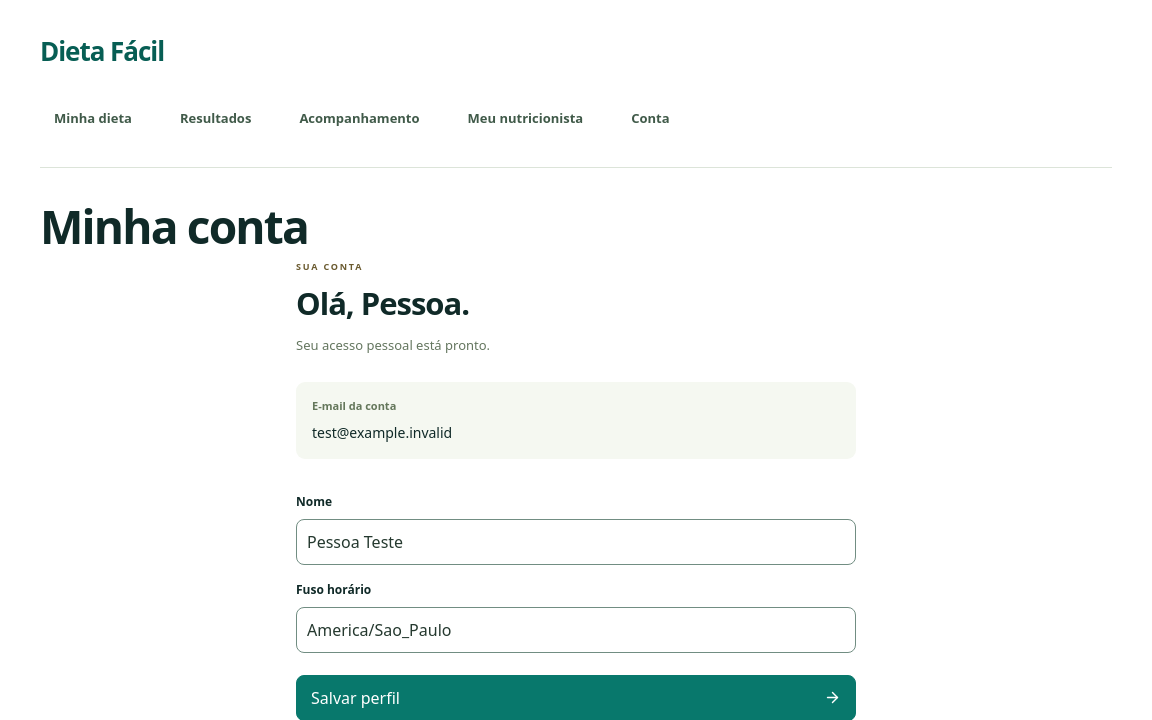
Acesso pessoal › remove a área pessoal e pede novo login quando a sessão termina ao salvar
Expected: the heading "Olá, Pessoa." is shown, [296, 282, 469, 324]
Click the button "Salvar perfil".
click(356, 698)  # box [296, 675, 856, 719]
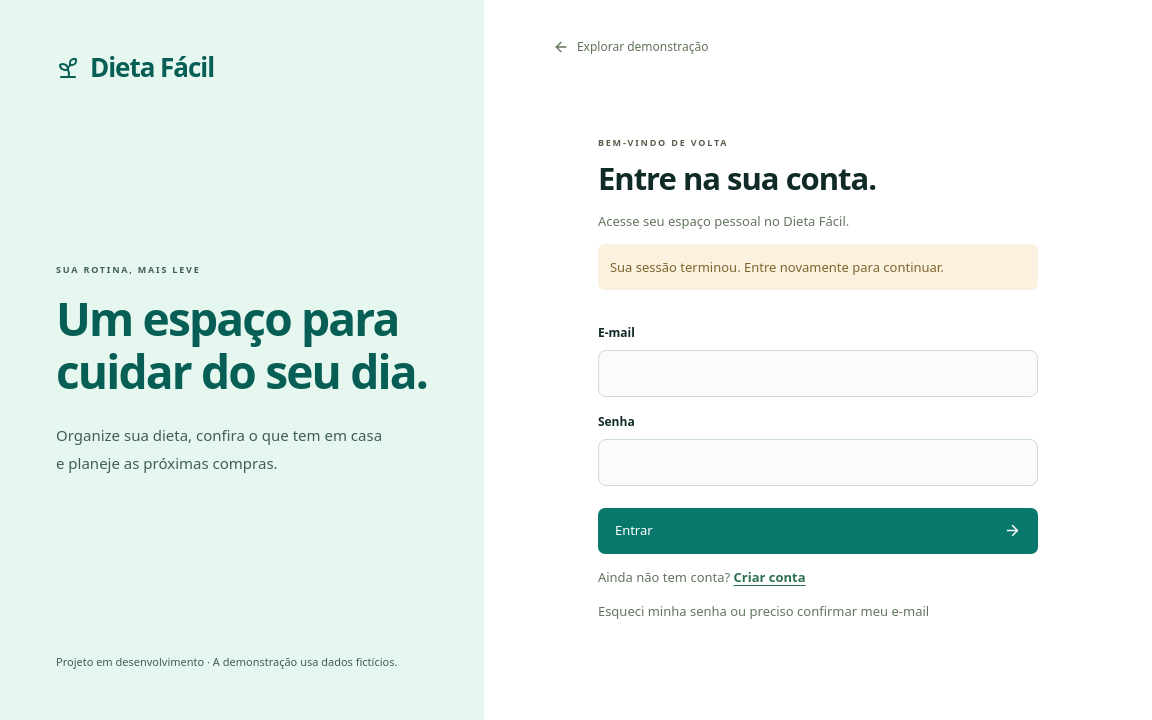
Expected: the text "Sua sessão terminou. Entre novamente para continuar." is shown, [598, 244, 1038, 290]
Expected: the text "test@example.invalid" is gone
